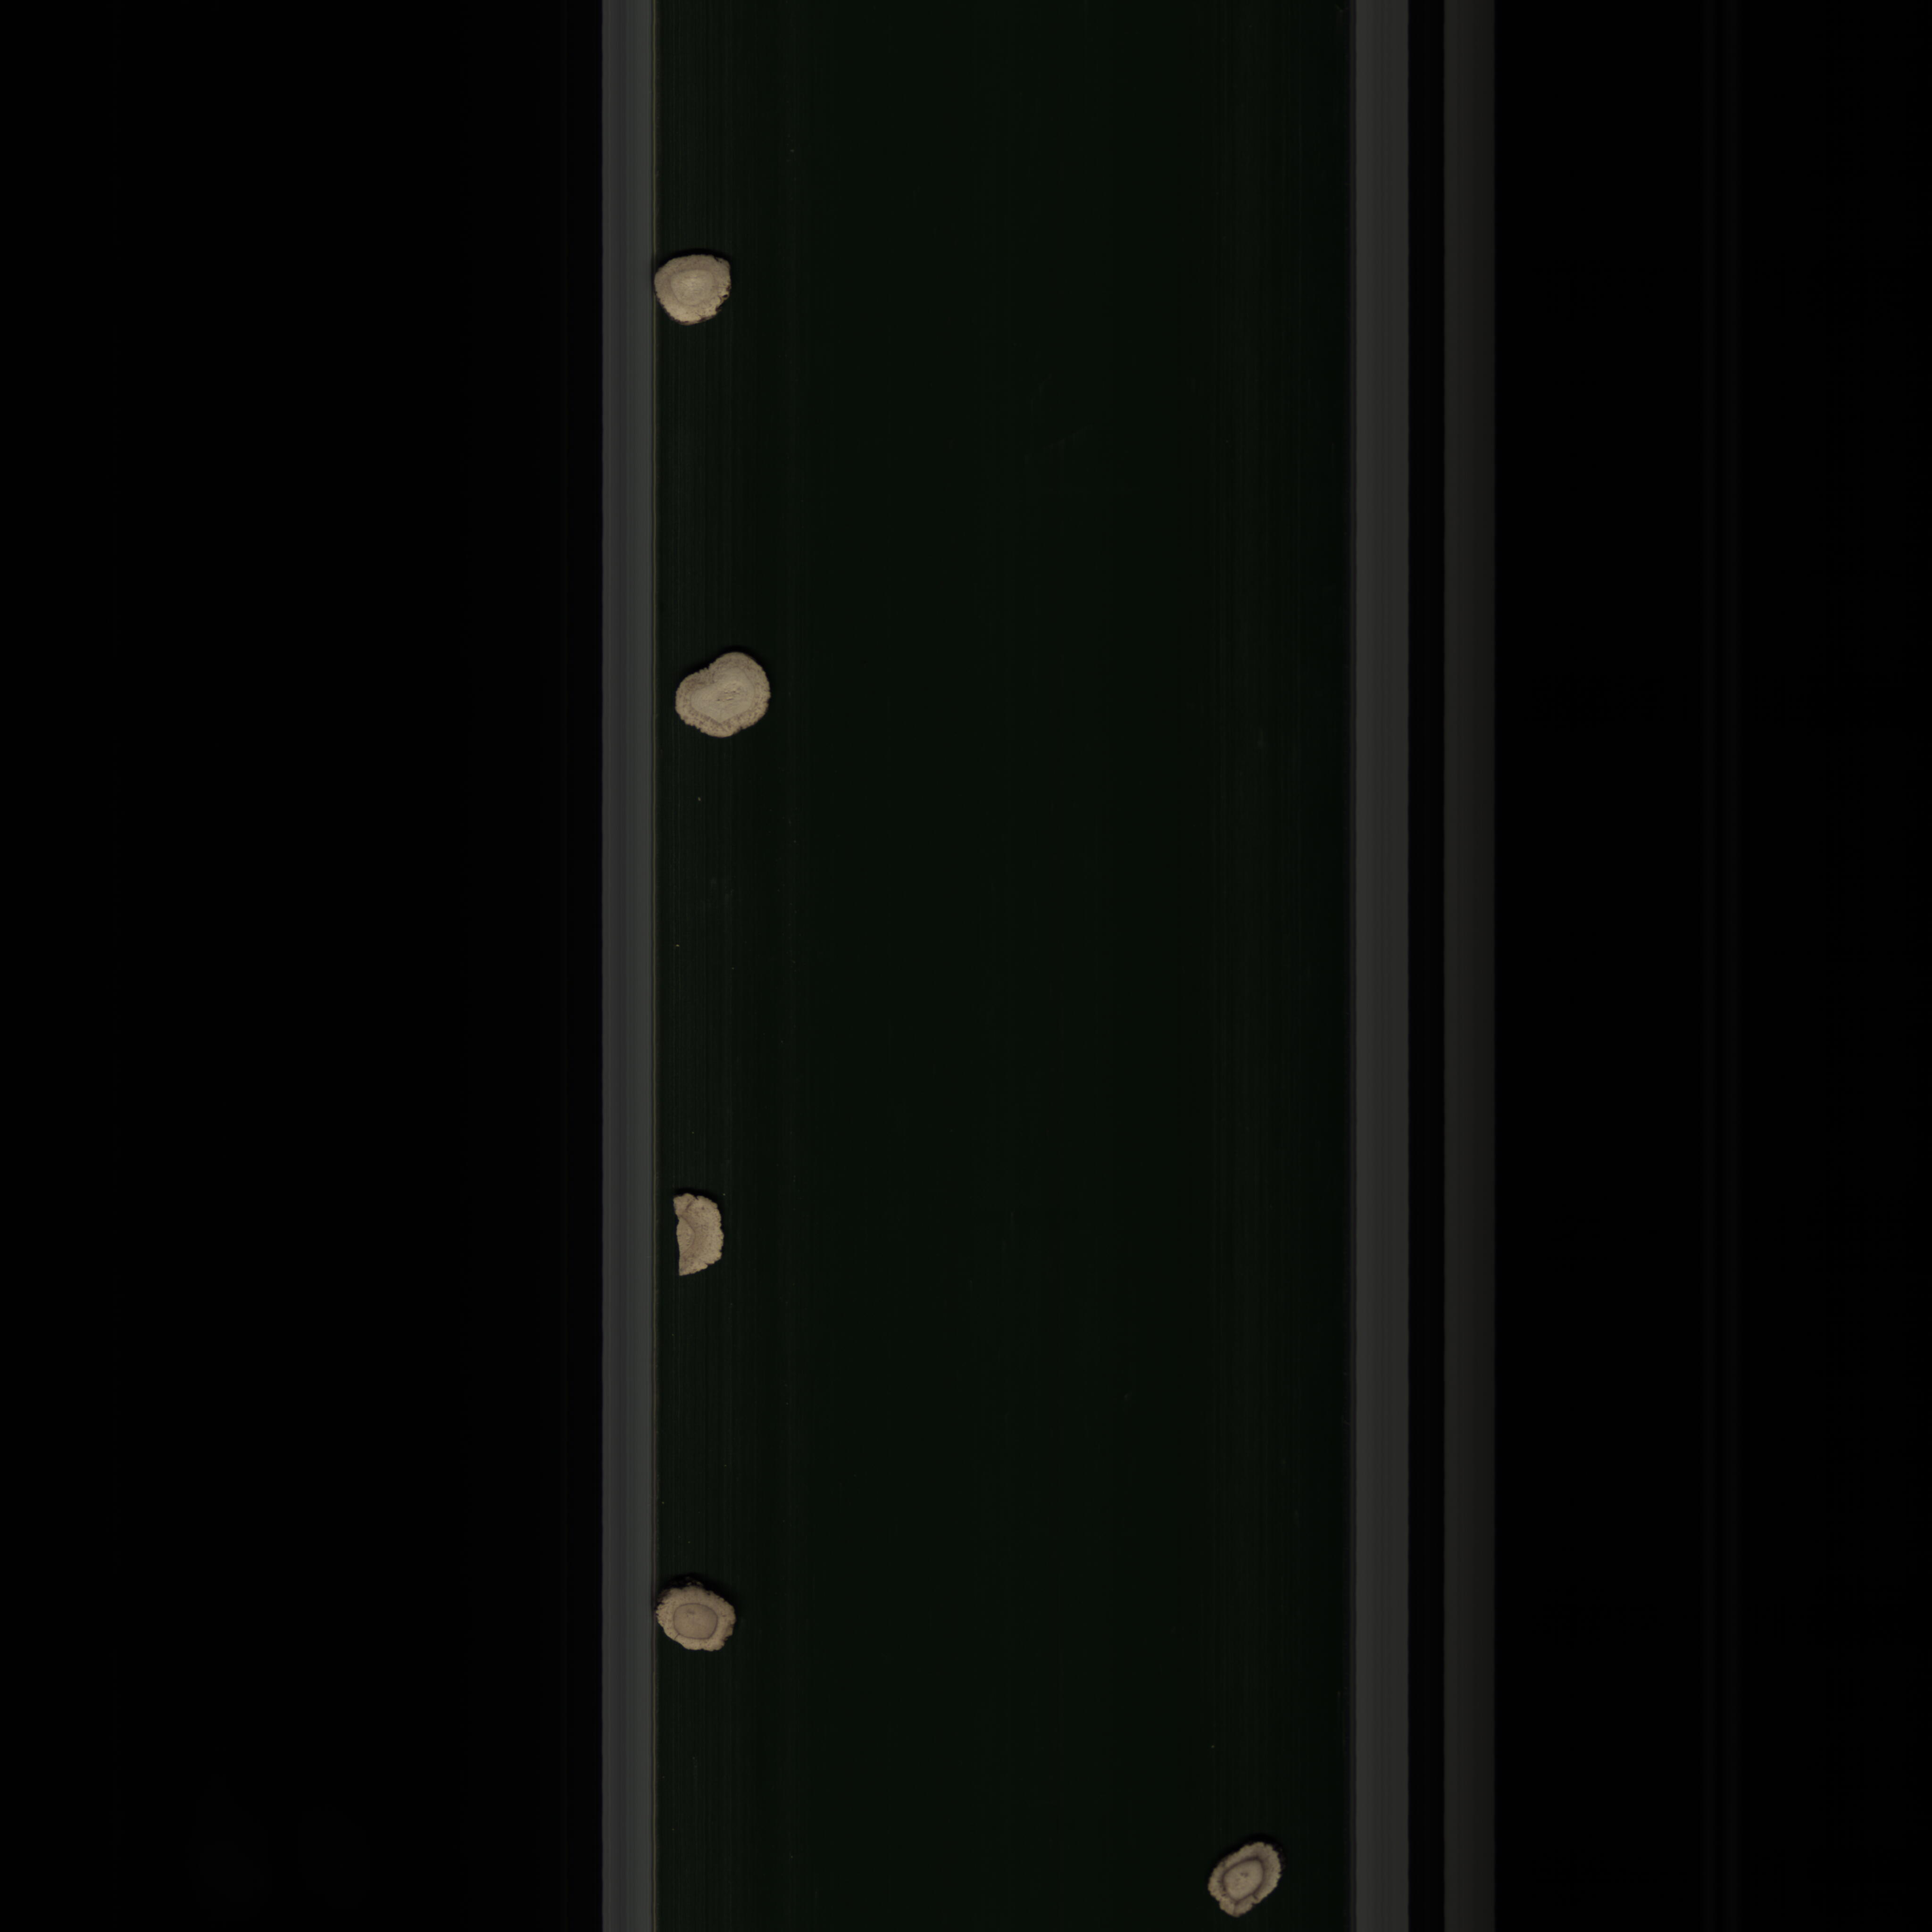debris: (667, 1184, 736, 1286)
moldy: (1192, 1831, 1293, 1921), (655, 1582, 747, 1663)
